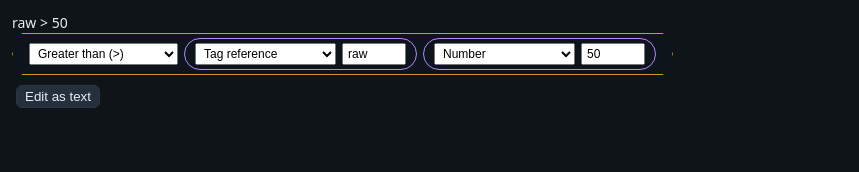
Scenario: ExprTreeEditor › changing a reporter block's kind to a function replaces it with that function's default args
Select "Square root" in the 2nd dropdown named "Block kind" at (266, 54), box [195,43,336,65]
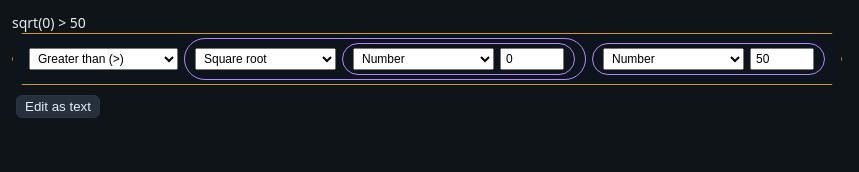
Expected: the text with test id "current-value" reads "sqrt(0) > 50", [12,13,86,32]
